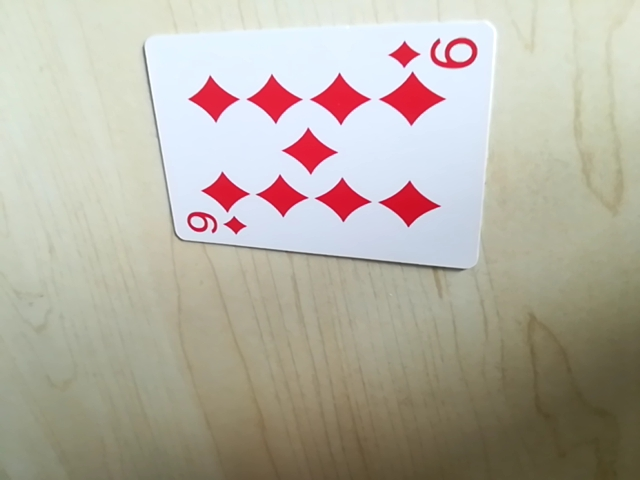fk 9: (388, 26, 482, 78), (180, 210, 251, 242)
